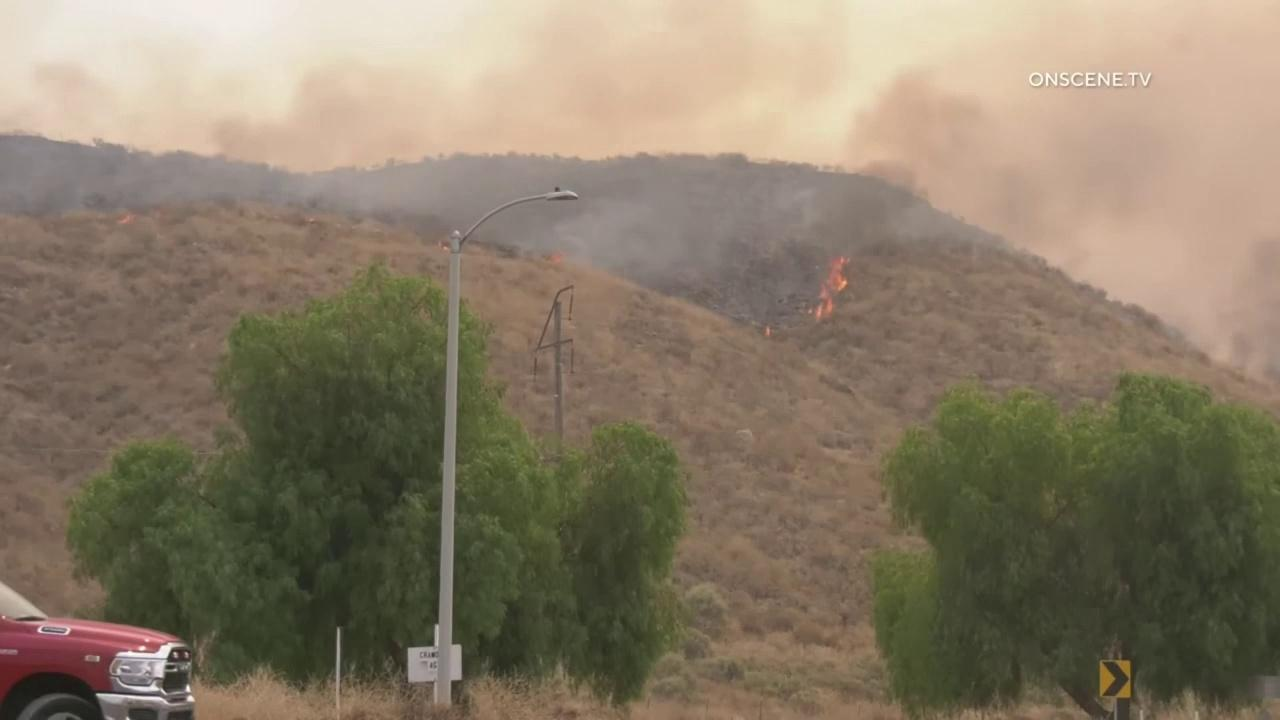fire: (813, 254, 851, 324), (118, 213, 132, 224), (549, 253, 561, 265), (762, 325, 772, 337)
smoke: (0, 0, 1280, 386)
